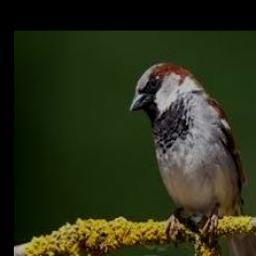Sparrow: (129, 61, 256, 256)
